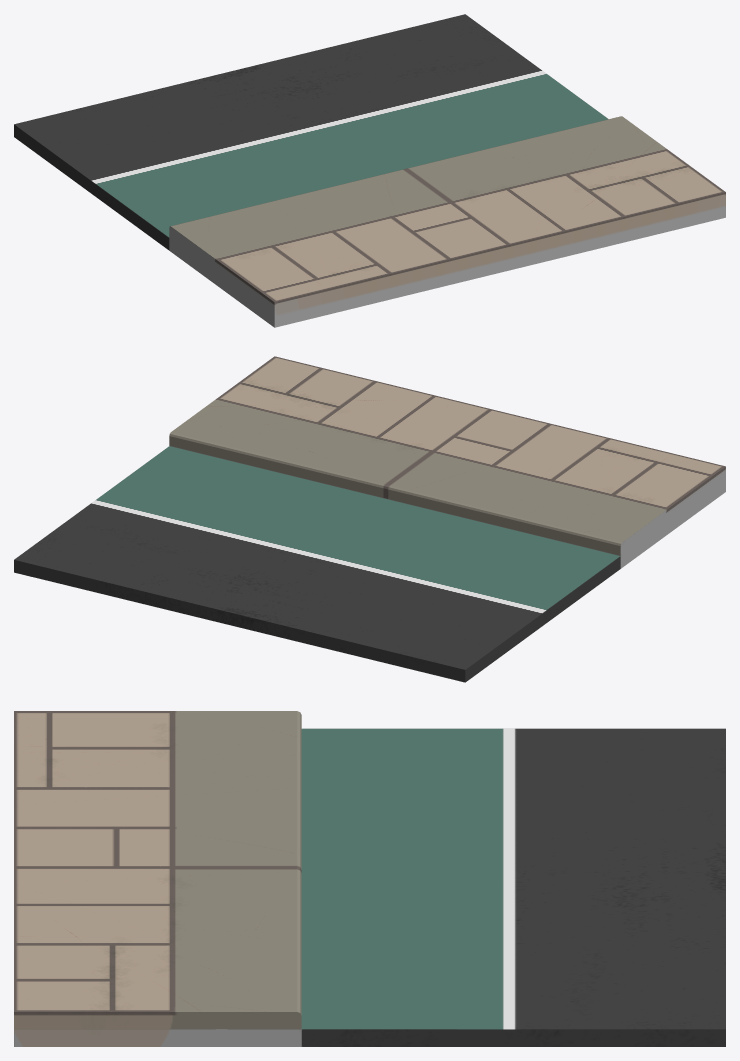
The model's file is Pavement_Default_BikeLane.fbx.
3 views of the same model, one above another, from view 1: azimuth 30°, elevation 25°; view 2: azimuth 150°, elevation 25°; view 3: azimuth 270°, elevation 25° (orthographic). The views are drawn at different scales.
Visible parts, largest first — view 1: Cube; view 2: Cube; view 3: Cube.
Part boxes in pixels (left/top/right/bottom): Cube: left=14, top=14, right=725, bottom=327; Cube: left=14, top=356, right=725, bottom=682; Cube: left=14, top=711, right=725, bottom=1046.
Size of the model in its own units: 100 by 5.4 by 100.
Materials: 1 (1 with a texture image).
